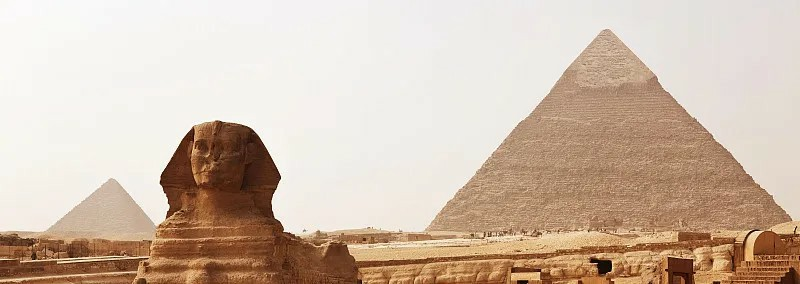Pyramid: (427, 29, 793, 233), (42, 177, 156, 240)
